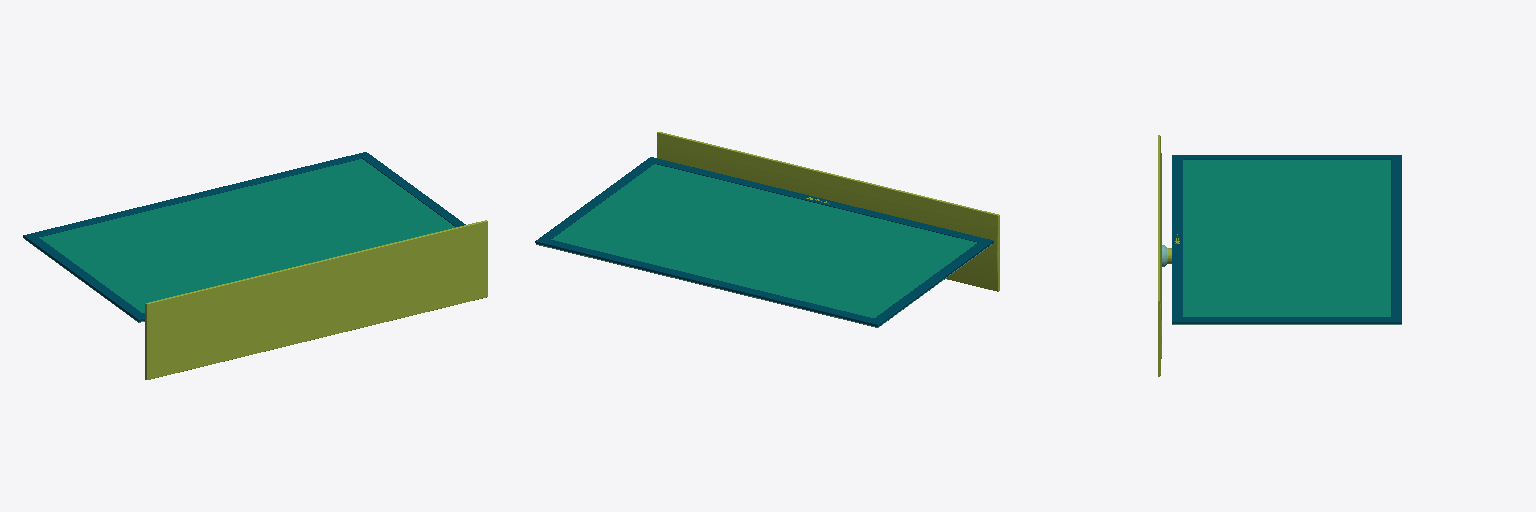
3 renders of one model, left to right at view 1: azimuth 30°, elevation 25°; view 2: azimuth 150°, elevation 25°; view 3: azimuth 270°, elevation 25°, orthographic.
Parts seen in each view (by area): view 1: cgaxis_electronics_03_04, cgaxis_electronics_03_03, cgaxis_electronics_03_02; view 2: cgaxis_electronics_03_04, cgaxis_electronics_03_03, cgaxis_electronics_03_02; view 3: cgaxis_electronics_03_04, cgaxis_electronics_03_02, cgaxis_electronics_03_03.
Part boxes in pixels (left/top/right/bottom): cgaxis_electronics_03_04: left=39, top=159, right=455, bottom=312; cgaxis_electronics_03_03: left=145, top=220, right=487, bottom=379; cgaxis_electronics_03_02: left=23, top=152, right=465, bottom=321; cgaxis_electronics_03_04: left=551, top=164, right=976, bottom=317; cgaxis_electronics_03_03: left=657, top=132, right=999, bottom=291; cgaxis_electronics_03_02: left=535, top=157, right=993, bottom=326; cgaxis_electronics_03_04: left=1183, top=160, right=1390, bottom=316; cgaxis_electronics_03_02: left=1172, top=155, right=1401, bottom=323; cgaxis_electronics_03_03: left=1158, top=135, right=1179, bottom=376.
Size of the model in its own units: 1020 by 217 by 630.